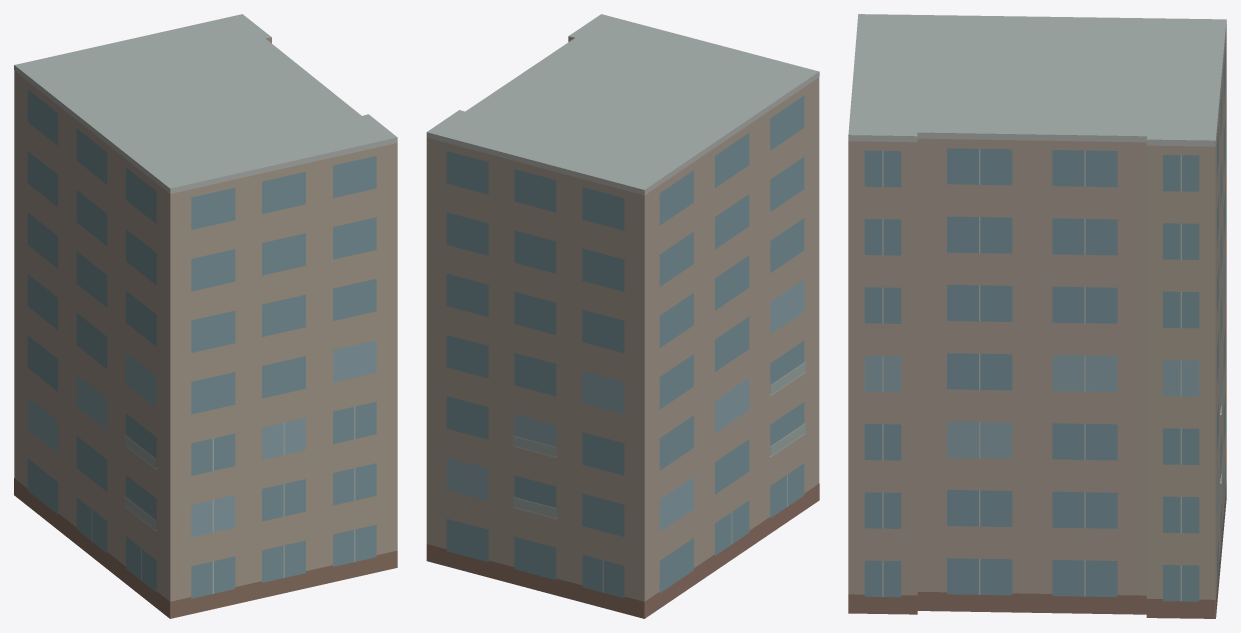
File: survey-upis-32542336.glb
3 views of the same model, side by side, from view 1: azimuth 30°, elevation 25°; view 2: azimuth 150°, elevation 25°; view 3: azimuth 270°, elevation 25° (orthographic). The views are drawn at different scales.
Parts seen in each view (by area): view 1: survey-upis-32542336.tmp; view 2: survey-upis-32542336.tmp; view 3: survey-upis-32542336.tmp.
Boxes of the visible parts, x1=… form: survey-upis-32542336.tmp: x1=14, y1=14, x2=397, y2=618; survey-upis-32542336.tmp: x1=426, y1=14, x2=819, y2=618; survey-upis-32542336.tmp: x1=848, y1=14, x2=1226, y2=618.
Bounding box in the file's own units: 10.9 × 19.2 × 13.77.
